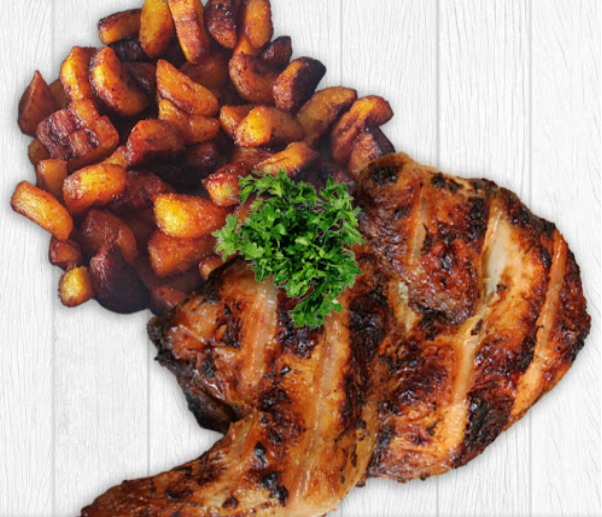alloco: (43, 49, 216, 220)
feuilles vetes: (243, 179, 353, 275)
poulet: (370, 181, 536, 389)
